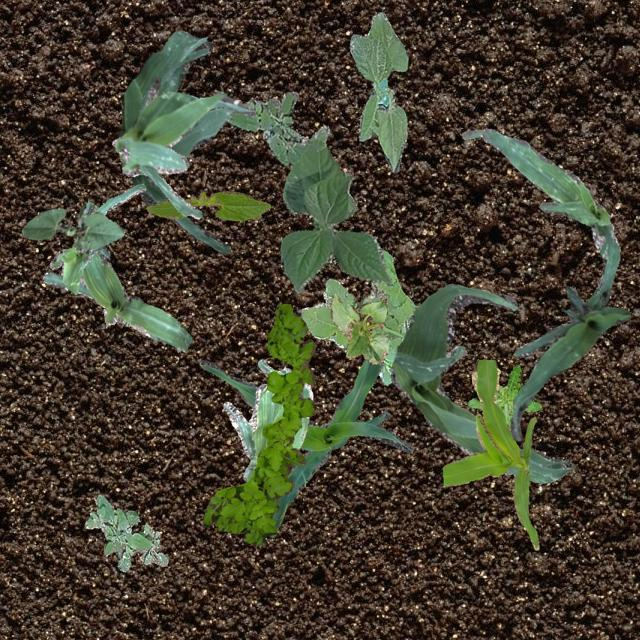crop: (390, 282, 574, 482), (198, 358, 412, 528), (118, 29, 264, 252), (461, 128, 618, 308), (41, 202, 190, 351), (112, 76, 255, 218), (510, 286, 630, 440), (442, 358, 538, 548), (278, 138, 389, 292), (222, 358, 312, 482), (49, 182, 144, 294), (349, 12, 406, 172), (20, 208, 124, 252), (328, 292, 388, 363), (144, 190, 270, 220)
weed: (202, 302, 314, 544), (298, 248, 418, 384), (226, 90, 328, 168), (84, 494, 166, 570), (466, 364, 542, 426)
